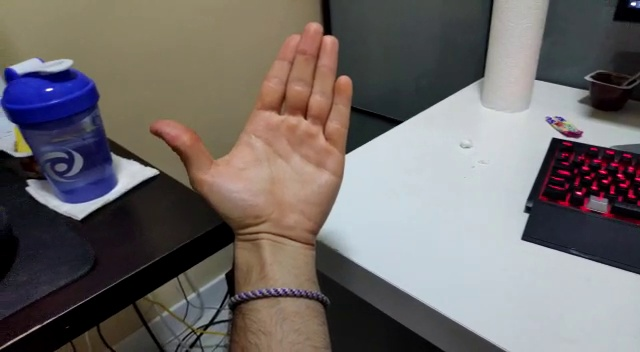Palm: (151, 20, 355, 264)
